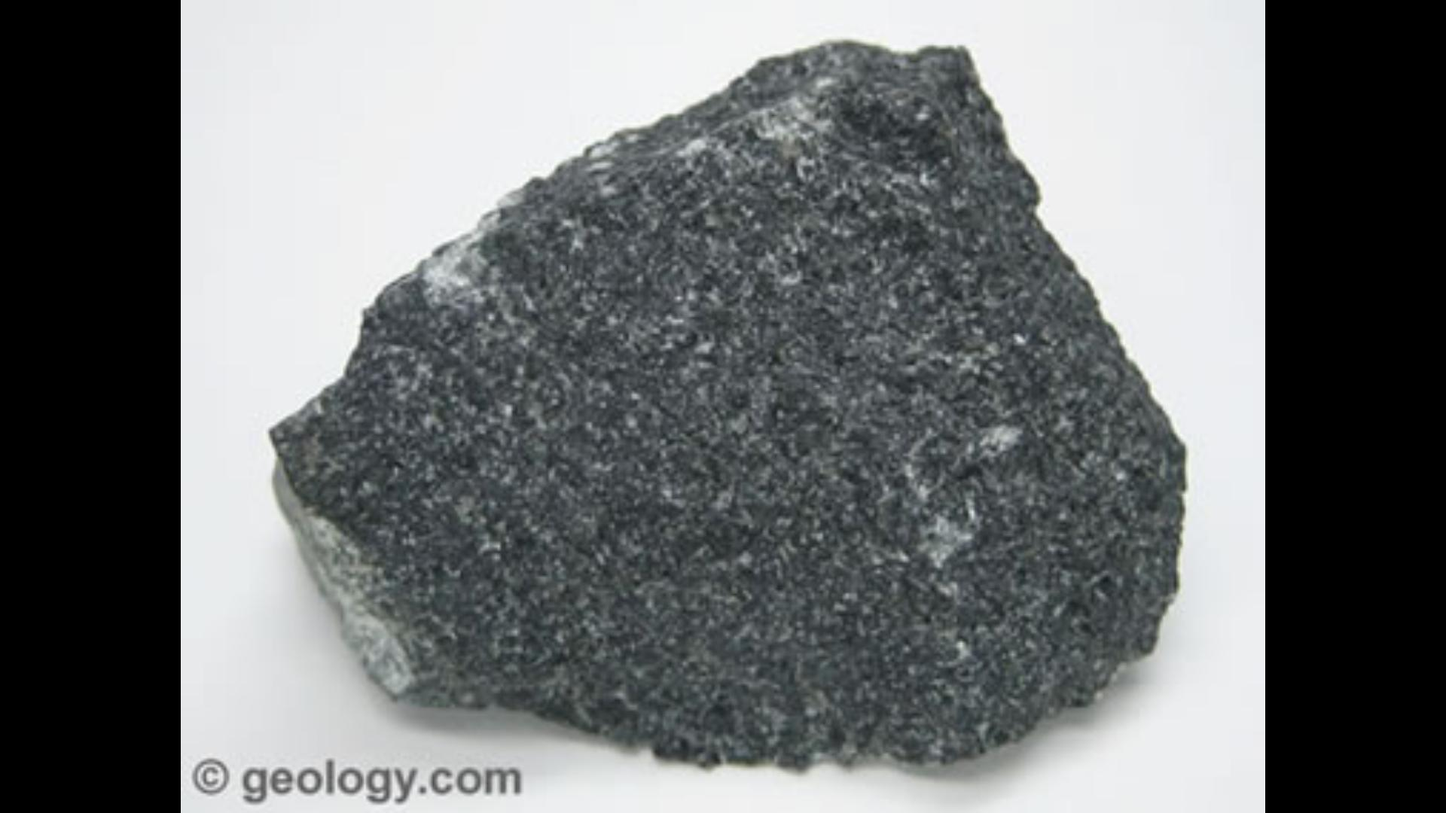rock: (275, 43, 1182, 762)
